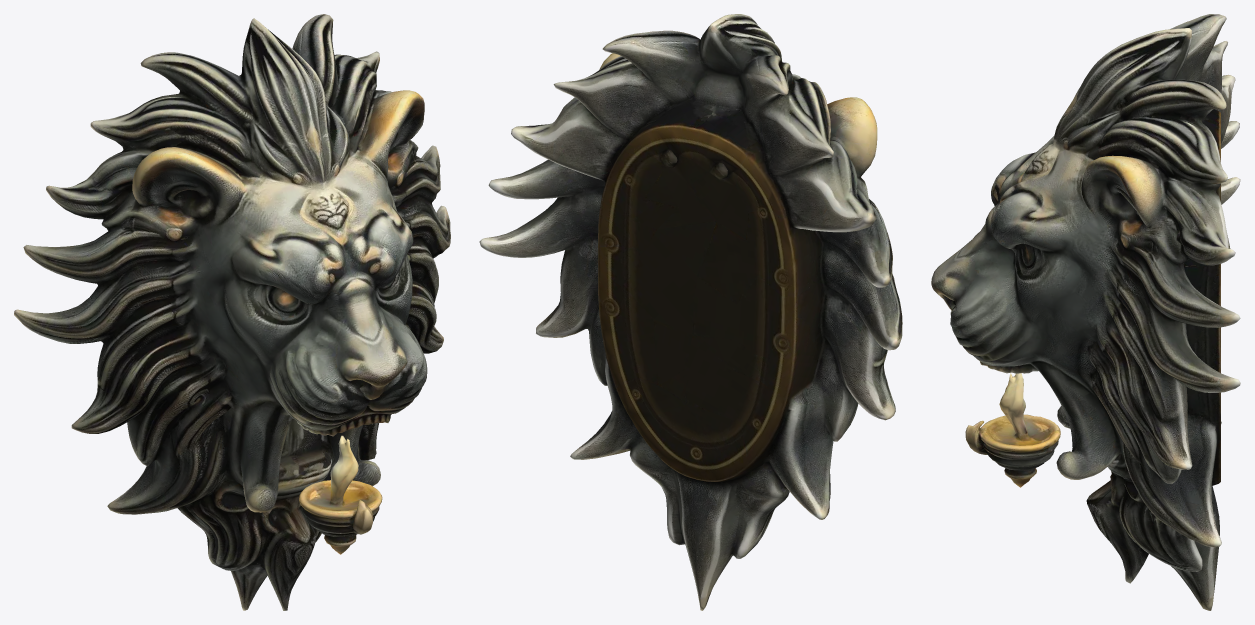
The model's file is babylon_lion_sconce.glb.
3 views of the same model, side by side, from view 1: azimuth 30°, elevation 25°; view 2: azimuth 150°, elevation 25°; view 3: azimuth 270°, elevation 25° (orthographic). The views are drawn at different scales.
Bounding box in the file's own units: 1.44 × 1.91 × 0.9193.
1 material, 1 textured.
